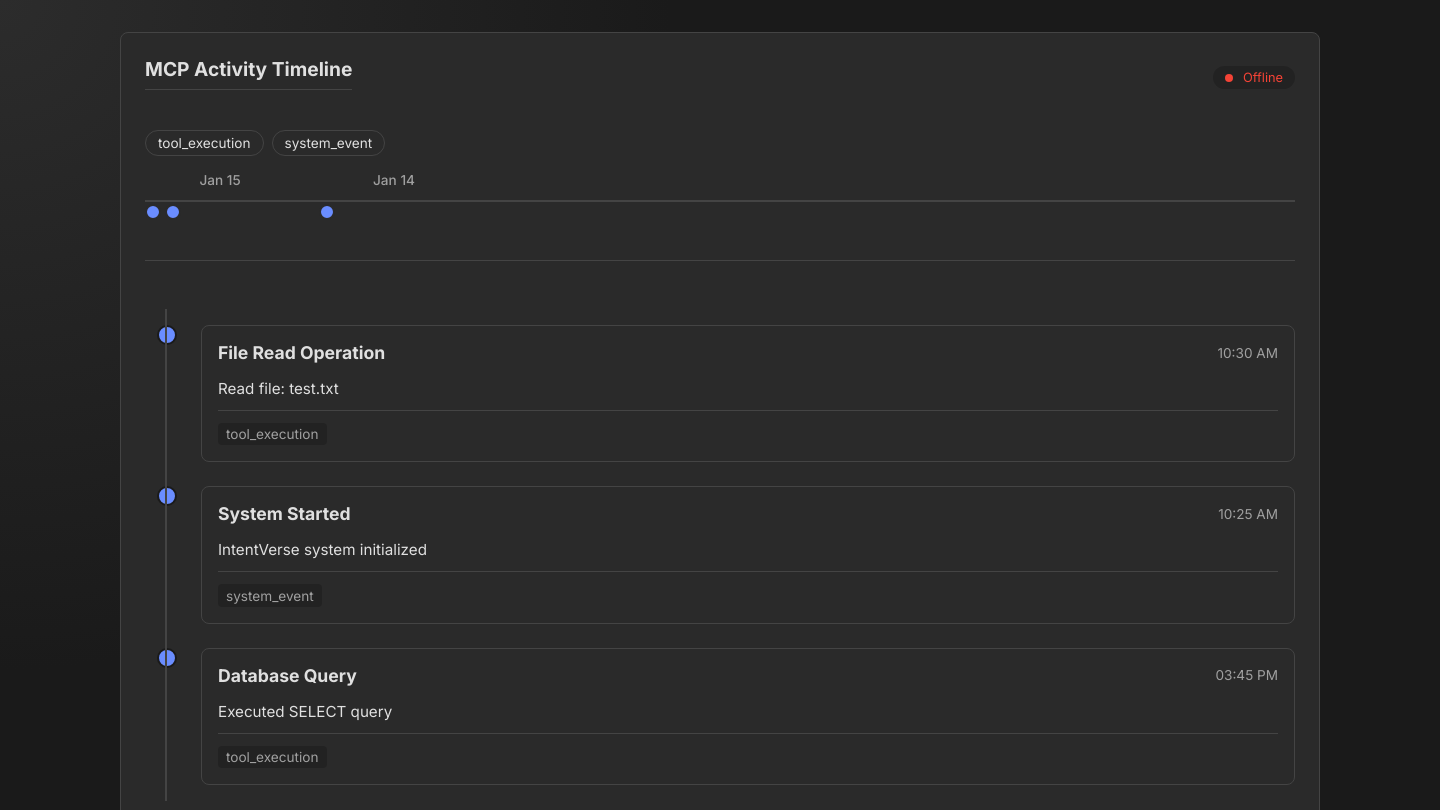
Scenario: TimelinePage › Event Filtering › resets filter when event type is clicked again
The image size is (1440, 810).
expect the heading "File Read Operation" is shown: met, box [218,342,385,363]
expect the element with class "event-types" is shown: met, box [145,130,385,156]
Click the 2nd text with class "event-type" at x=328, y=143, box [272,130,385,156]
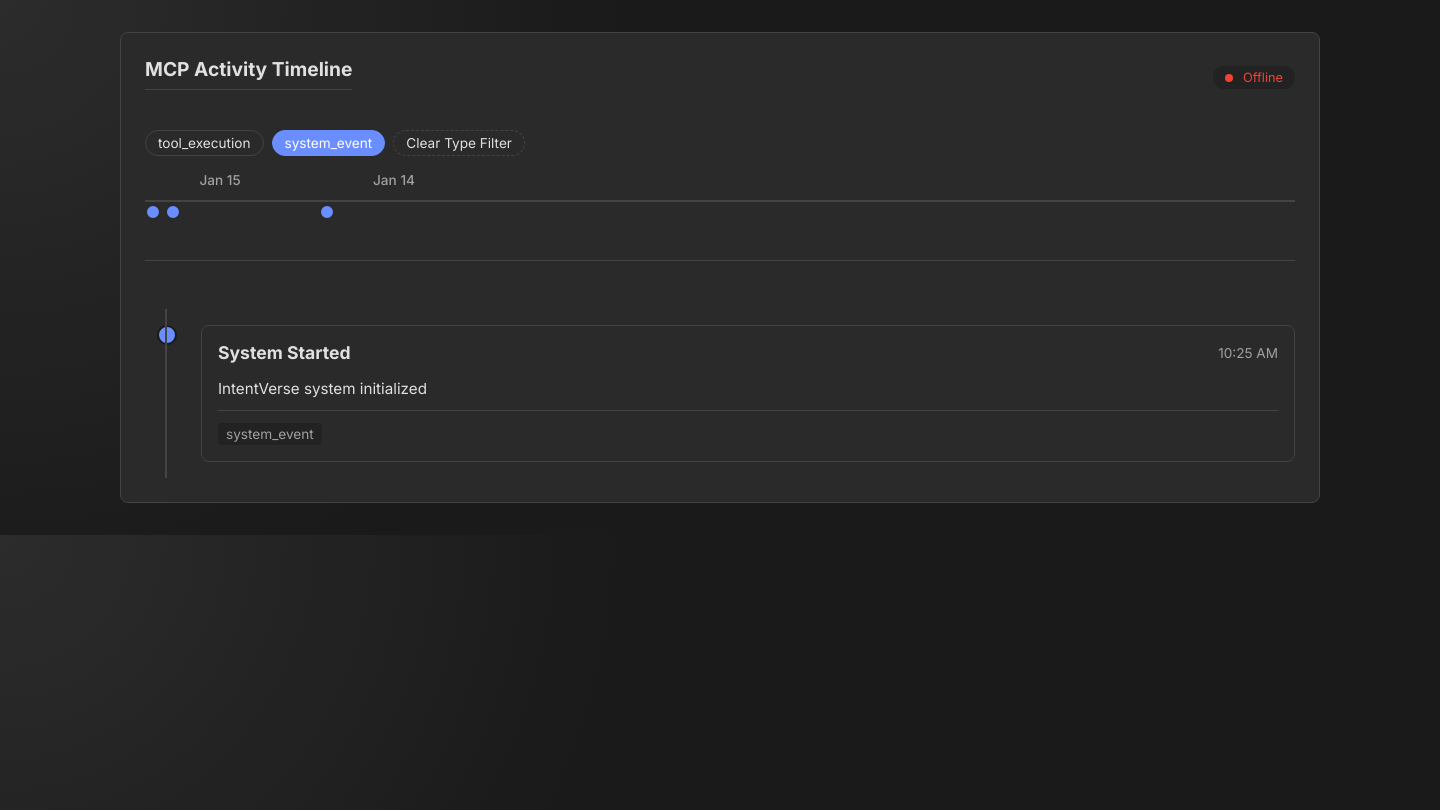
expect the heading "System Started" is shown: met, box [218,342,351,363]
expect the heading "File Read Operation" is gone: met
Click again to reset filter
Click the text with class "event-type" next to "tool_execution" at x=328, y=143, box [272,130,385,156]
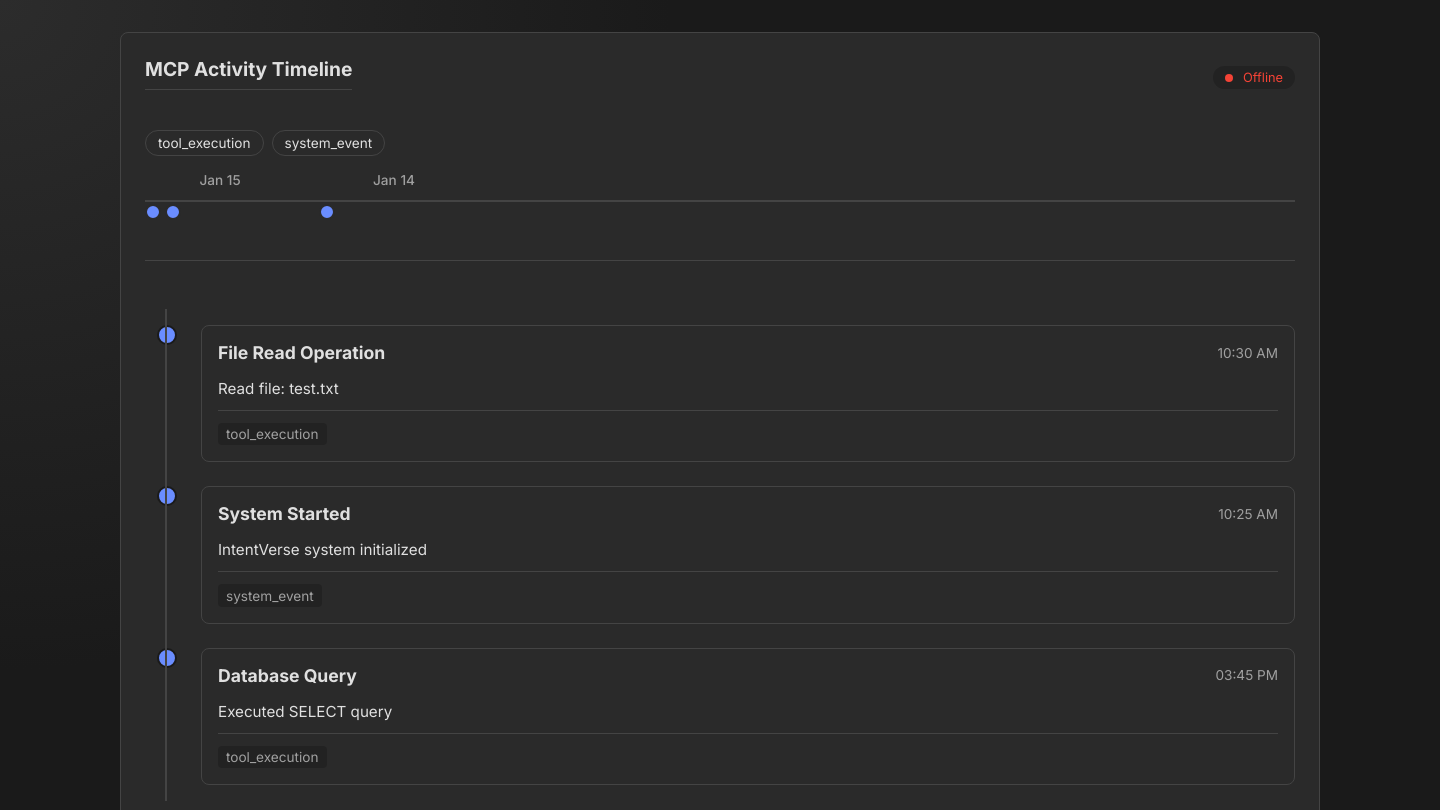
expect the heading "System Started" is shown: met, box [218,503,351,524]
expect the heading "File Read Operation" is shown: met, box [218,342,385,363]
